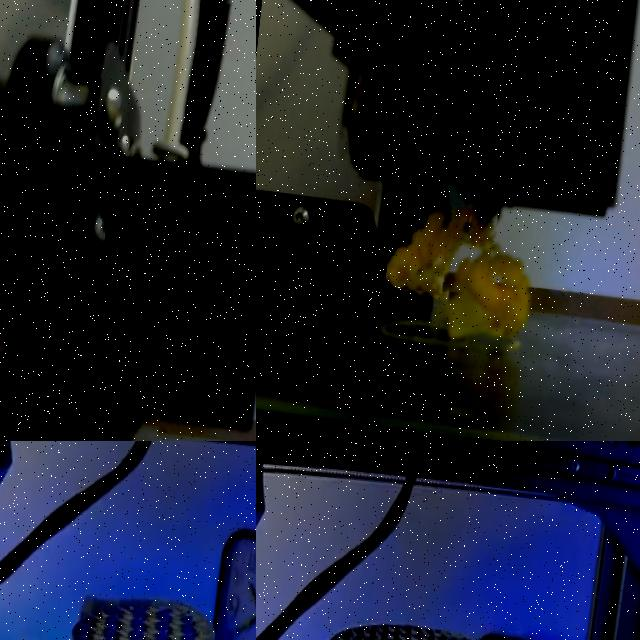spaghetti: (385, 207, 493, 292), (442, 254, 528, 338), (68, 395, 164, 441)
